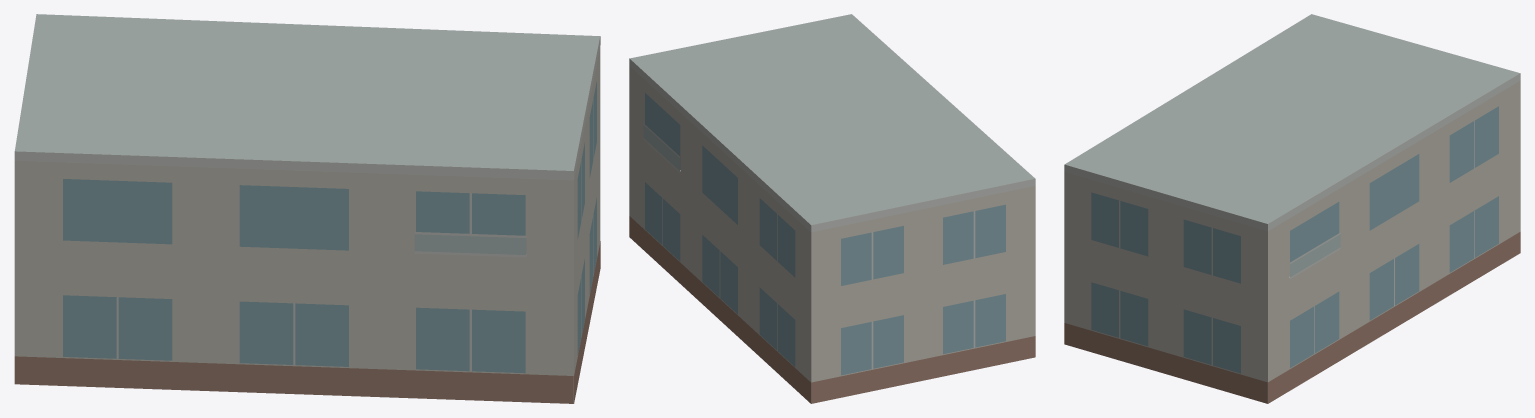
Rendered from survey-upis-32714486.glb.
The picture shows the model from 3 angles, left to right: view 1: azimuth 30°, elevation 25°; view 2: azimuth 150°, elevation 25°; view 3: azimuth 270°, elevation 25°; orthographic projection. The views are drawn at different scales.
Visible parts, largest first — view 1: survey-upis-32714486.tmp; view 2: survey-upis-32714486.tmp; view 3: survey-upis-32714486.tmp.
Part boxes in pixels (bbox=[...]): survey-upis-32714486.tmp: bbox=[14, 14, 600, 403]; survey-upis-32714486.tmp: bbox=[629, 14, 1035, 403]; survey-upis-32714486.tmp: bbox=[1064, 14, 1520, 403].
Bounding box in the file's own units: 15.29 × 6.1 × 14.03.
